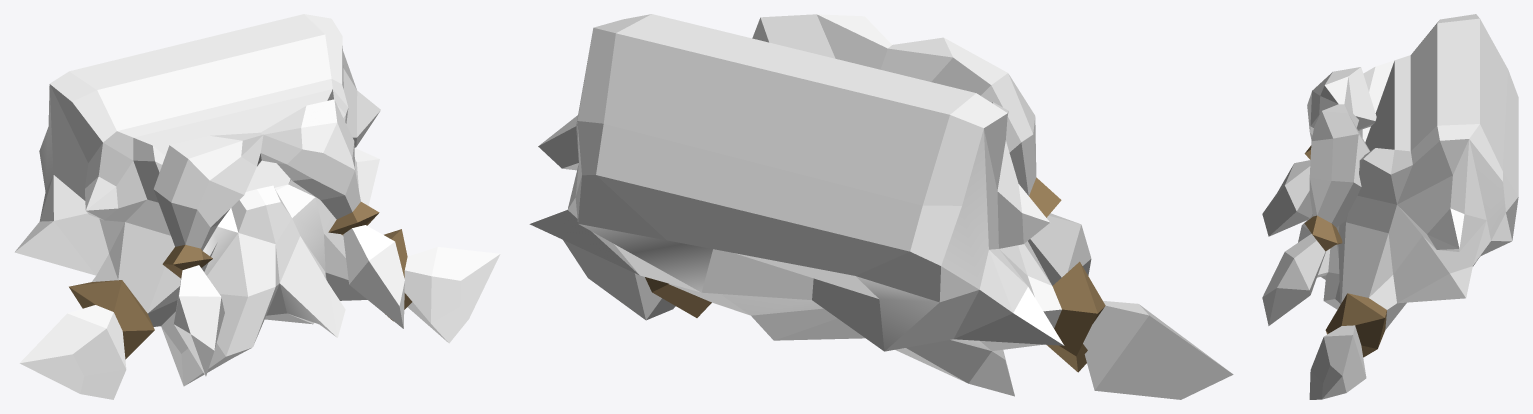
File: SM_Chr_Attach_Beard_01.fbx
3 views of the same model, side by side, from view 1: azimuth 30°, elevation 25°; view 2: azimuth 150°, elevation 25°; view 3: azimuth 270°, elevation 25° (orthographic). The views are drawn at different scales.
Parts seen in each view (by area): view 1: SM_Chr_Attach_Beard_01; view 2: SM_Chr_Attach_Beard_01; view 3: SM_Chr_Attach_Beard_01.
Boxes of the visible parts, x1=… form: SM_Chr_Attach_Beard_01: x1=14, y1=14, x2=500, y2=399; SM_Chr_Attach_Beard_01: x1=529, y1=14, x2=1233, y2=399; SM_Chr_Attach_Beard_01: x1=1262, y1=14, x2=1518, y2=399.
Bounding box in the file's own units: 42.27 × 23.05 × 21.21.
